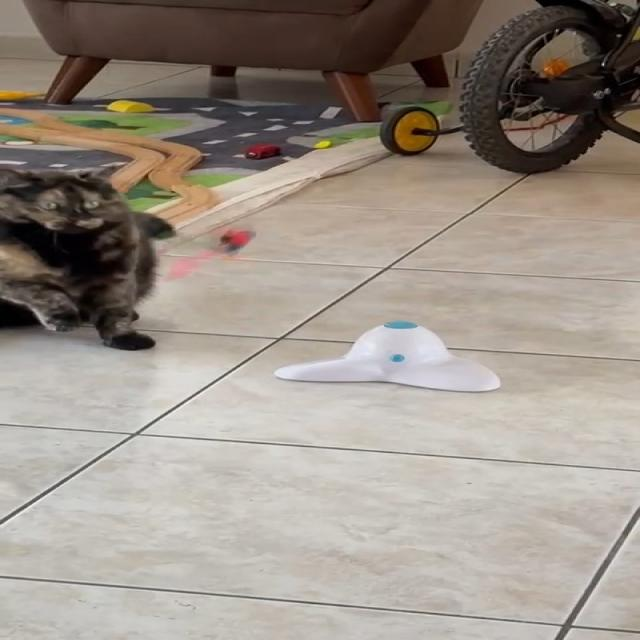authorized: (0, 161, 175, 351)
